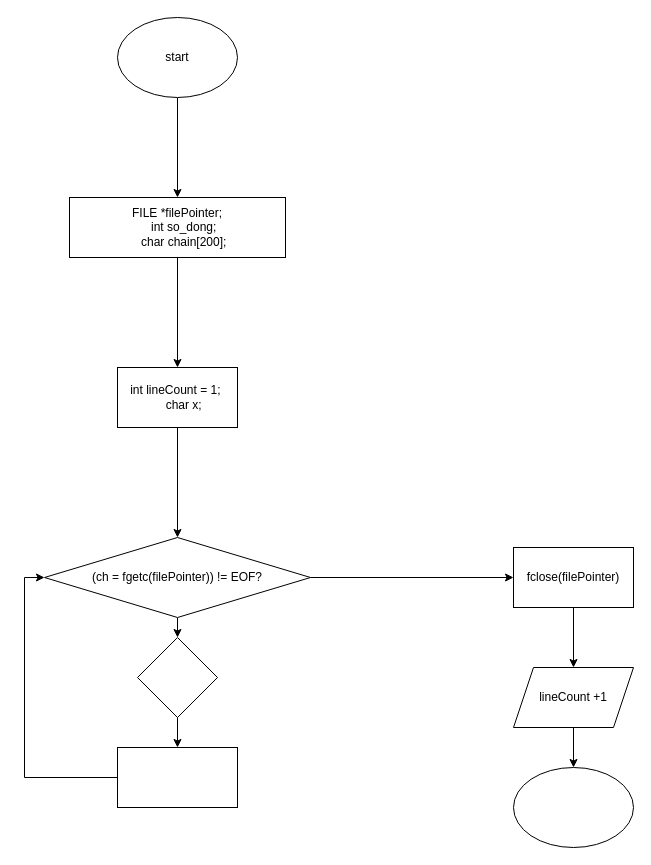
This 651x865 diagram has some shape labels left out. Here are the shapes that lost their labels. From the top down, the box of each, then its label:
(136, 636, 218, 718): ch == '\n'?
(116, 746, 238, 808): lineCount++
(512, 766, 634, 848): end
